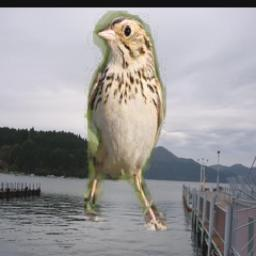Sparrow: (85, 11, 167, 230)
